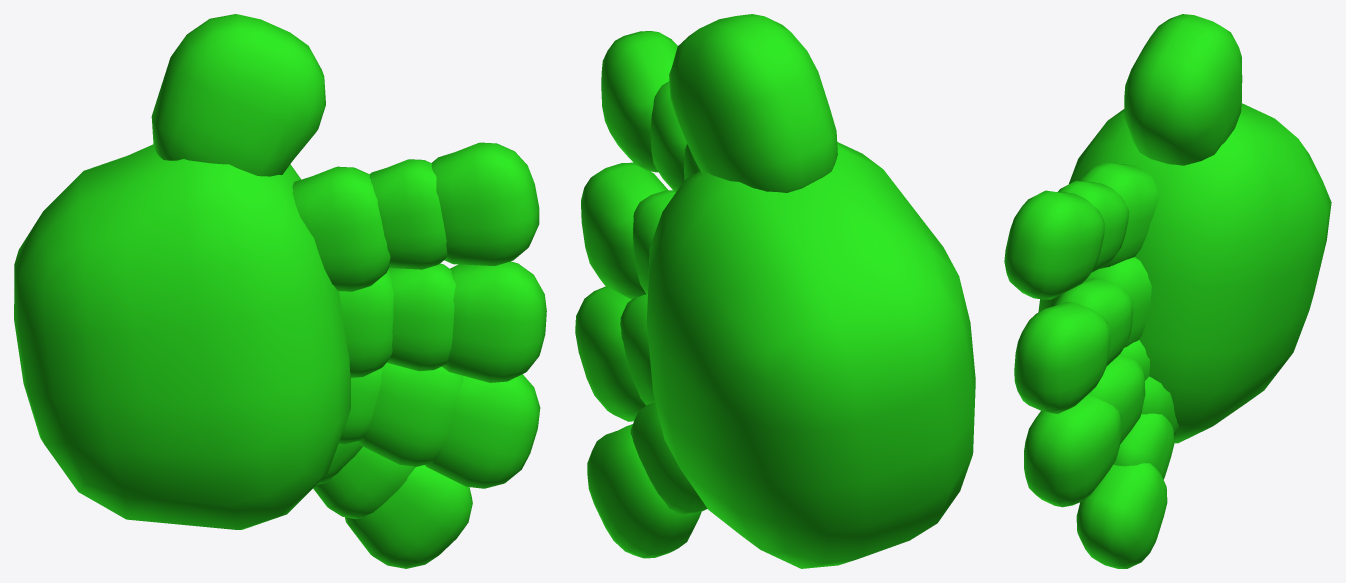
The model's file is mainDroiteSingeVert.gltf.
3 renders of one model, left to right at view 1: azimuth 30°, elevation 25°; view 2: azimuth 150°, elevation 25°; view 3: azimuth 270°, elevation 25°, orthographic. The views are drawn at different scales.
Parts seen in each view (by area): view 1: Roundcube.032; view 2: Roundcube.032; view 3: Roundcube.032.
Part boxes in pixels (x1,y1,x2,y2): Roundcube.032: [14, 14, 546, 568]; Roundcube.032: [575, 14, 975, 568]; Roundcube.032: [1004, 14, 1331, 568].
Size of the model in its own units: 0.7525 by 0.9221 by 0.5612.
